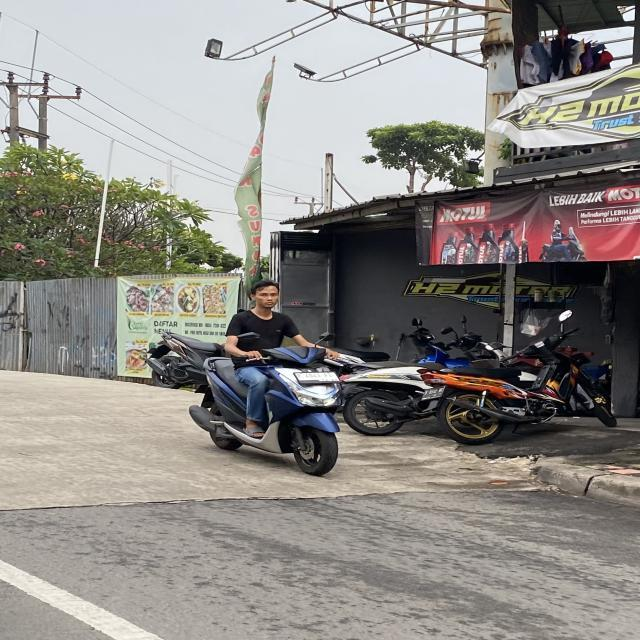Number Plate: (295, 372, 338, 384), (422, 387, 443, 399)
Rearview Mirror: (316, 332, 333, 343), (558, 310, 572, 322), (237, 332, 260, 338), (441, 326, 453, 334), (412, 317, 422, 326)
